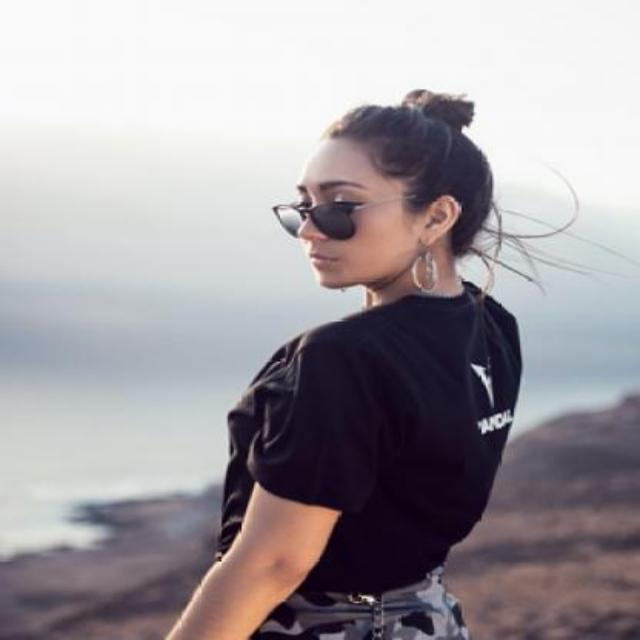glasses: (272, 192, 420, 238)
